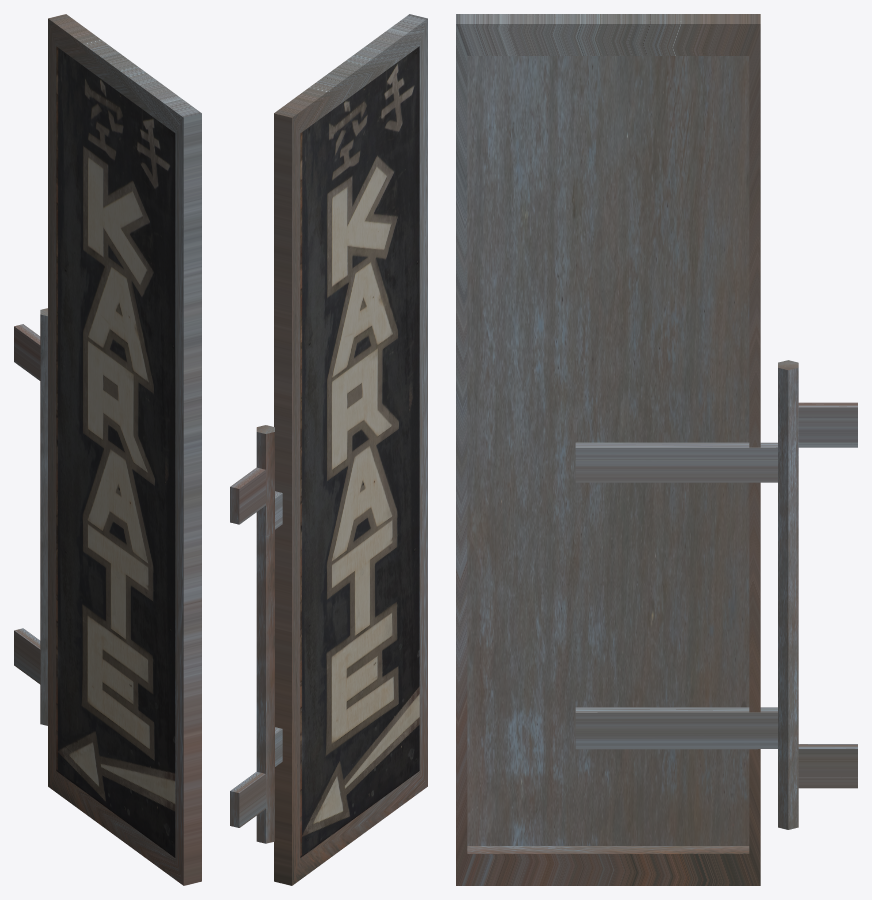
Rendered from pub5.fbx.
The picture shows the model from 3 angles, left to right: view 1: azimuth 30°, elevation 25°; view 2: azimuth 150°, elevation 25°; view 3: azimuth 270°, elevation 25°; orthographic projection. The views are drawn at different scales.
Visible parts, largest first — view 1: pub5.001; view 2: pub5.001; view 3: pub5.001.
Part boxes in pixels (x1=…): pub5.001: x1=14, y1=14, x2=201, y2=885; pub5.001: x1=230, y1=14, x2=427, y2=885; pub5.001: x1=456, y1=14, x2=857, y2=885.
Size of the model in its own units: 0.732 by 23.08 by 9.75.
2 materials, 2 textured.
